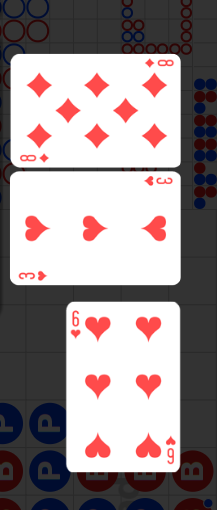3H: (142, 175, 173, 188)
6H: (164, 433, 176, 465)
8D: (142, 58, 175, 69)
